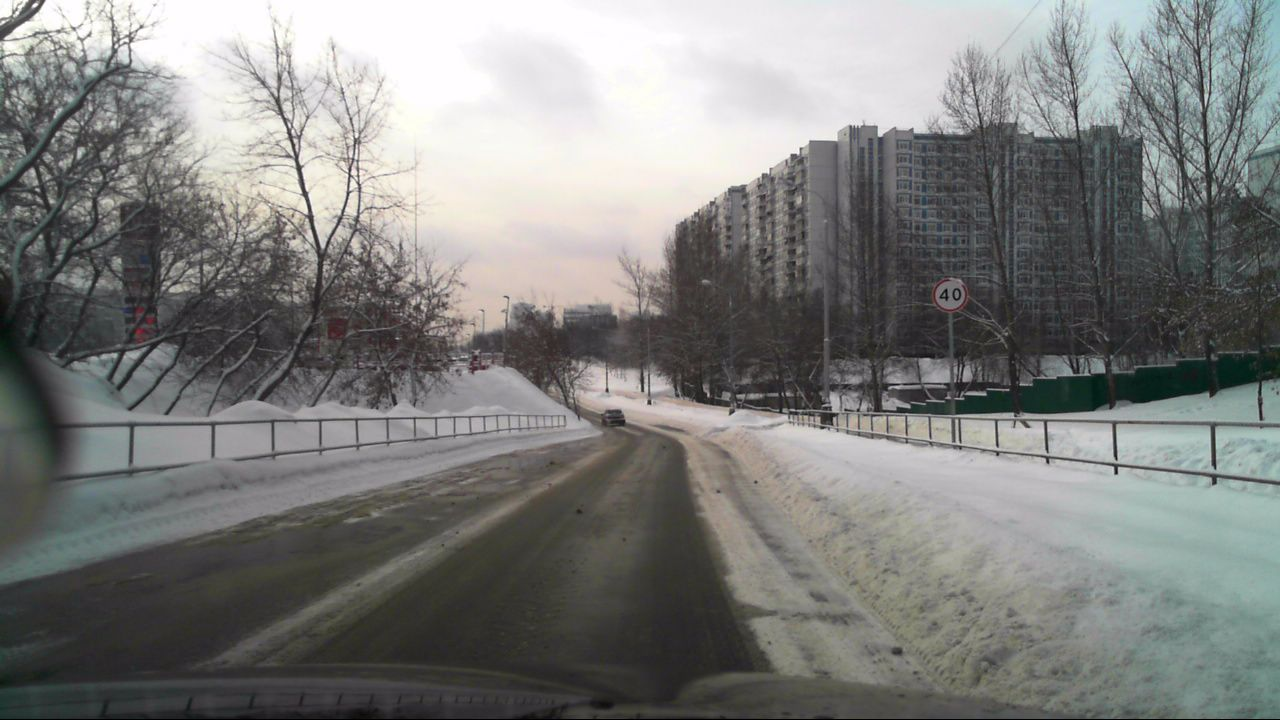speed_warning_40: (931, 276, 969, 314)
